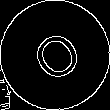O_SE: (23, 22, 87, 88)
